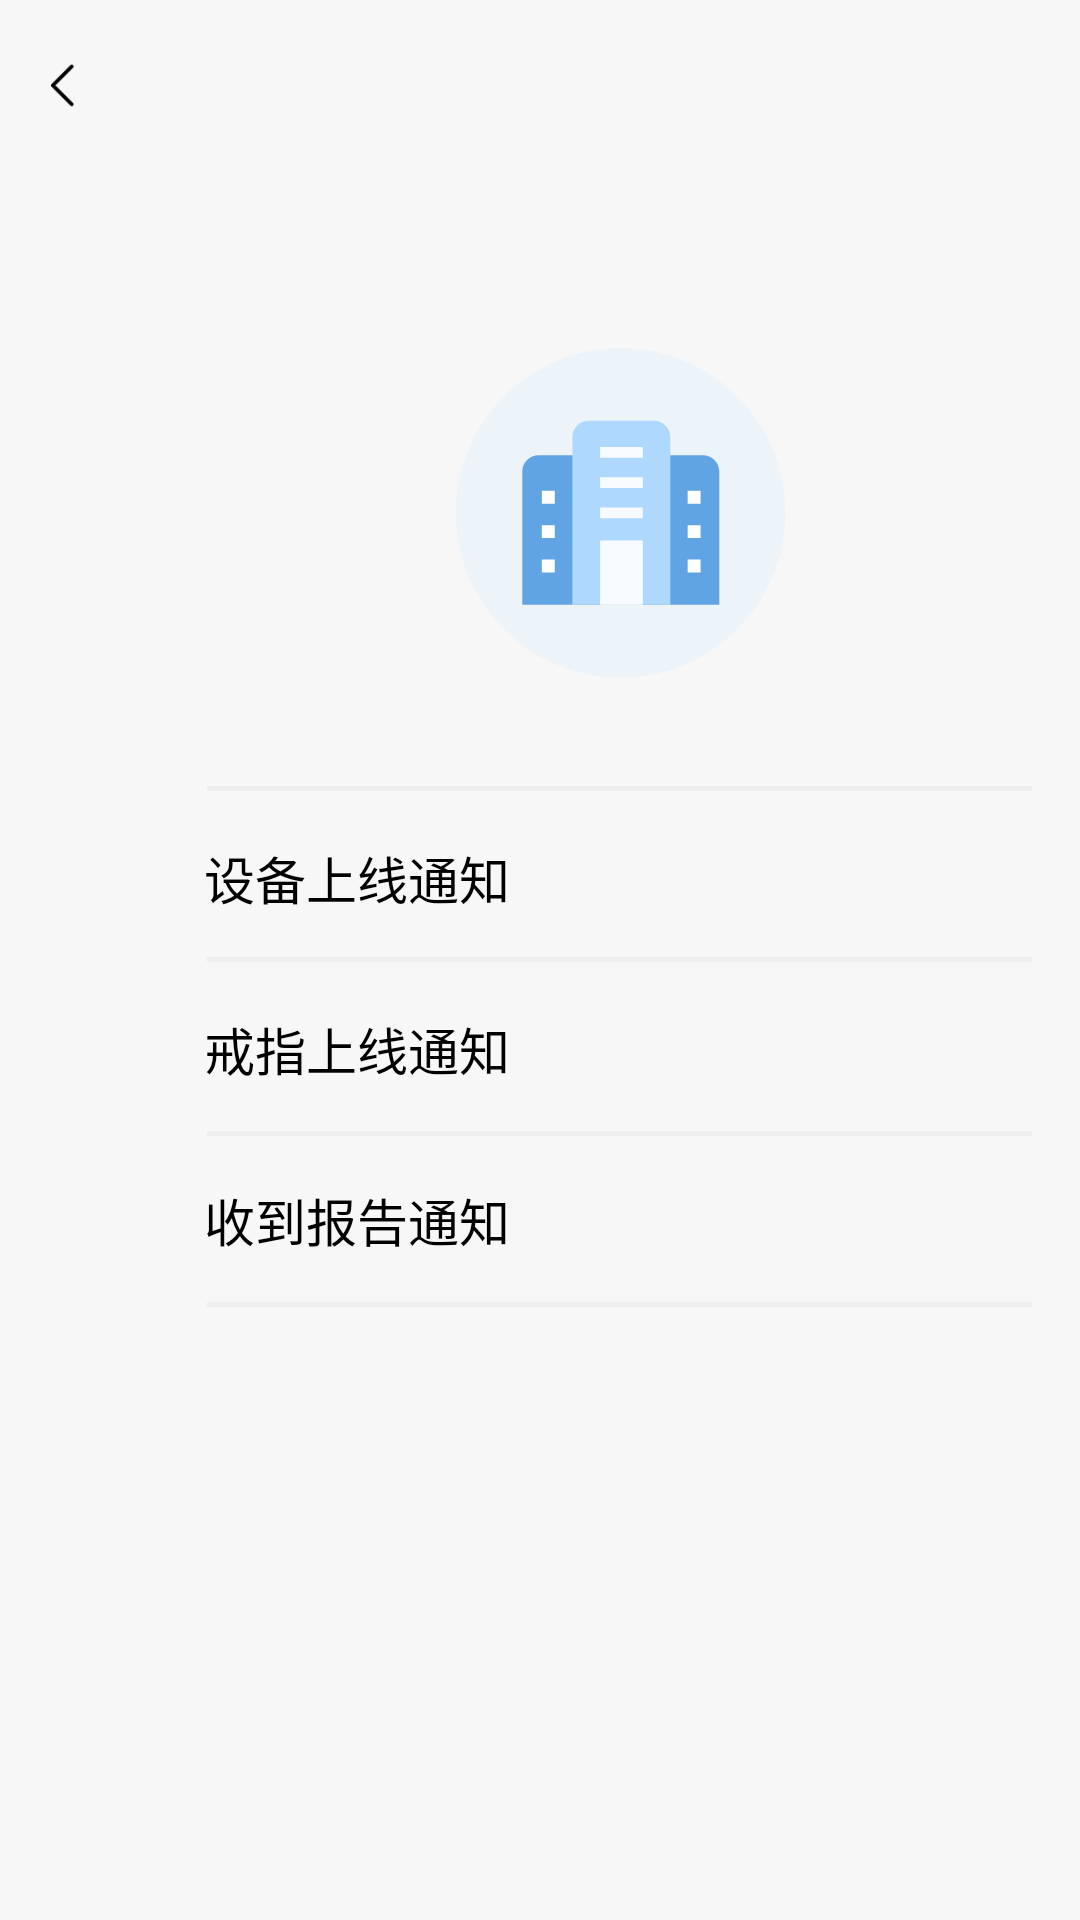

Icons on this 1080 x 1920 Android screen, each with its box as bbox(x1, y1, x2, y2):
arrow left: bbox(51, 64, 74, 107)
push set hospital pic: bbox(522, 420, 720, 605)
